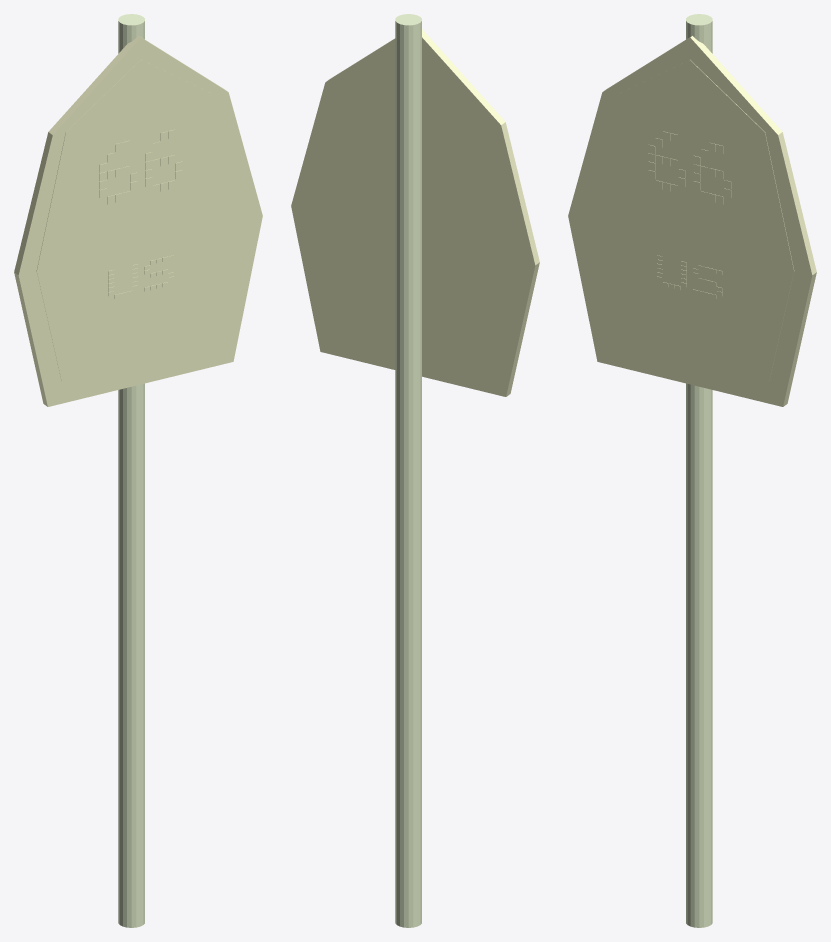
The model's file is sign_route_us_66_shield.glb.
The picture shows the model from 3 angles, left to right: view 1: azimuth 30°, elevation 25°; view 2: azimuth 150°, elevation 25°; view 3: azimuth 330°, elevation 25°; orthographic projection.
Visible parts, largest first — view 1: layer_1_00, plate_base_00, pole; view 2: plate_base_00, pole; view 3: layer_1_00, plate_base_00, pole.
Boxes of the visible parts, <box> form: layer_1_00: <box>36,60,245,381</box>; plate_base_00: <box>14,36,262,406</box>; pole: <box>118,14,144,927</box>; plate_base_00: <box>291,29,539,396</box>; pole: <box>395,14,421,927</box>; layer_1_00: <box>585,60,794,381</box>; plate_base_00: <box>568,36,816,406</box>; pole: <box>686,14,712,927</box>.
Size of the model in its own units: 0.6232 by 2.2 by 0.0725.
